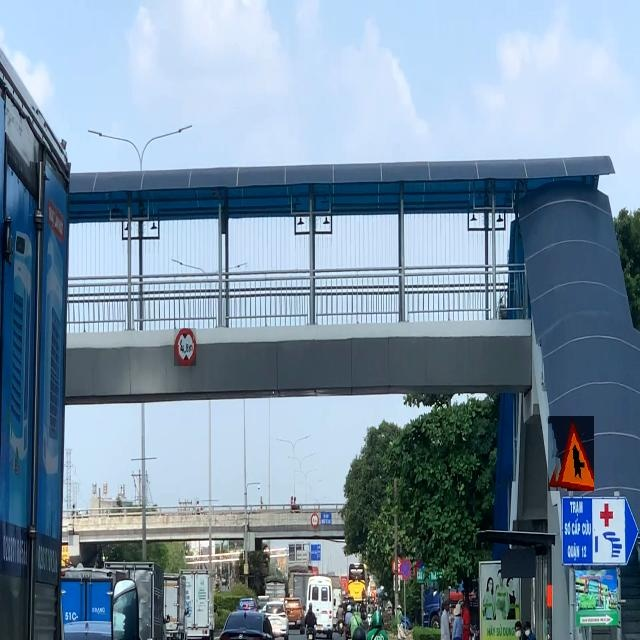bien_cam: (548, 416, 594, 491), (174, 328, 196, 366), (398, 557, 411, 580)
